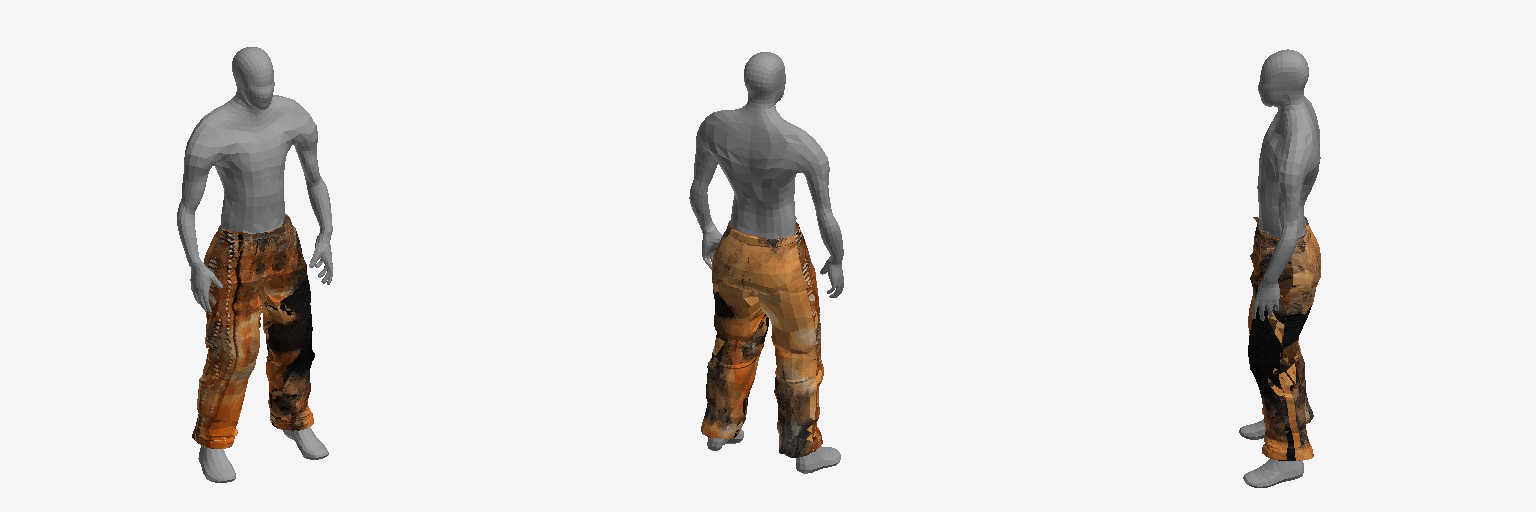
3 views of the same model, side by side, from view 1: azimuth 30°, elevation 25°; view 2: azimuth 150°, elevation 25°; view 3: azimuth 270°, elevation 25° (orthographic).
Parts seen in each view (by area): view 1: Human_BaseMesh_Mesh, Object60.004; view 2: Object60.004, Human_BaseMesh_Mesh; view 3: Human_BaseMesh_Mesh, Object60.004.
Boxes of the visible parts, x1=… form: Human_BaseMesh_Mesh: x1=177, y1=47, x2=332, y2=482; Object60.004: x1=192, y1=214, x2=314, y2=448; Object60.004: x1=701, y1=218, x2=823, y2=457; Human_BaseMesh_Mesh: x1=689, y1=52, x2=843, y2=473; Human_BaseMesh_Mesh: x1=1239, y1=49, x2=1320, y2=487; Object60.004: x1=1248, y1=217, x2=1320, y2=460.
Bounding box in the file's own units: 6.14 × 16.22 × 2.95.
3 materials, 1 textured.